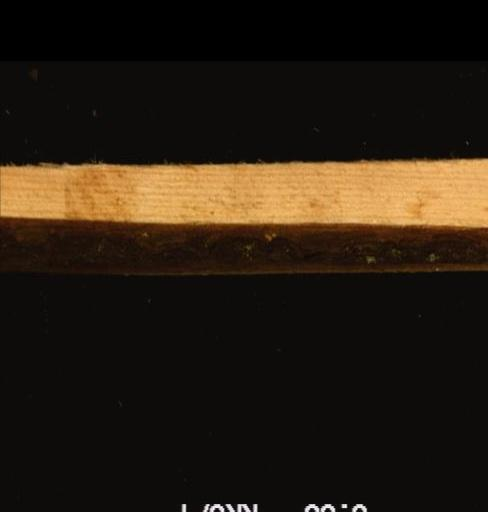wave: (0, 214, 486, 274)
